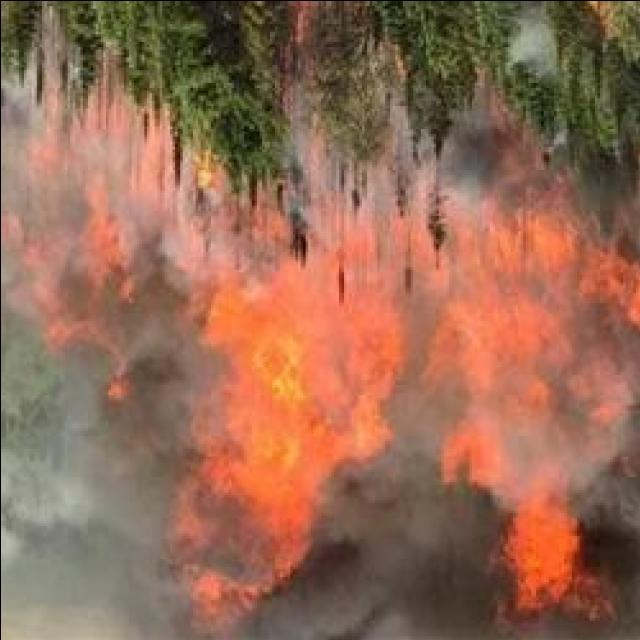fire: (242, 322, 326, 474), (514, 518, 572, 592), (592, 256, 640, 314)
smoke: (2, 351, 180, 640), (0, 100, 91, 258), (302, 558, 498, 630), (329, 479, 482, 566), (562, 330, 640, 466), (110, 162, 204, 264), (581, 478, 640, 638), (502, 423, 574, 493), (384, 374, 452, 440), (203, 514, 260, 579), (506, 15, 560, 78)
